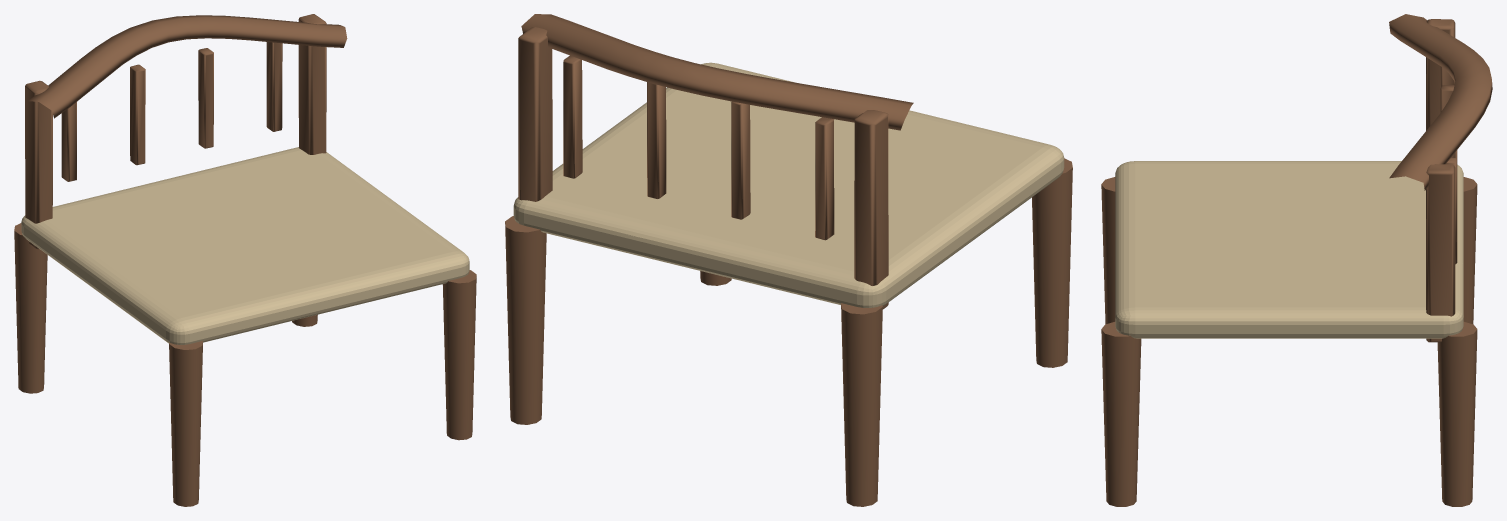
The model's file is chair-6-2.lod.glb.
3 renders of one model, left to right at view 1: azimuth 30°, elevation 25°; view 2: azimuth 150°, elevation 25°; view 3: azimuth 270°, elevation 25°, orthographic. The views are drawn at different scales.
Visible parts, largest first — view 1: tailored-cushion, part; view 2: tailored-cushion, part; view 3: tailored-cushion, part.
Part boxes in pixels (bbox=[...]): tailored-cushion: bbox=[21, 147, 469, 344]; part: bbox=[14, 14, 476, 506]; tailored-cushion: bbox=[513, 62, 1064, 307]; part: bbox=[505, 14, 1072, 506]; tailored-cushion: bbox=[1115, 161, 1463, 338]; part: bbox=[1101, 14, 1492, 506].
Size of the model in its own units: 1 by 1 by 1.
